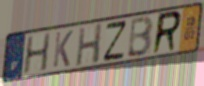B: (126, 14, 155, 59)
H: (74, 22, 104, 68), (22, 31, 52, 76)
K: (51, 29, 75, 70)
R: (150, 9, 183, 57)
Z: (102, 19, 128, 63)
